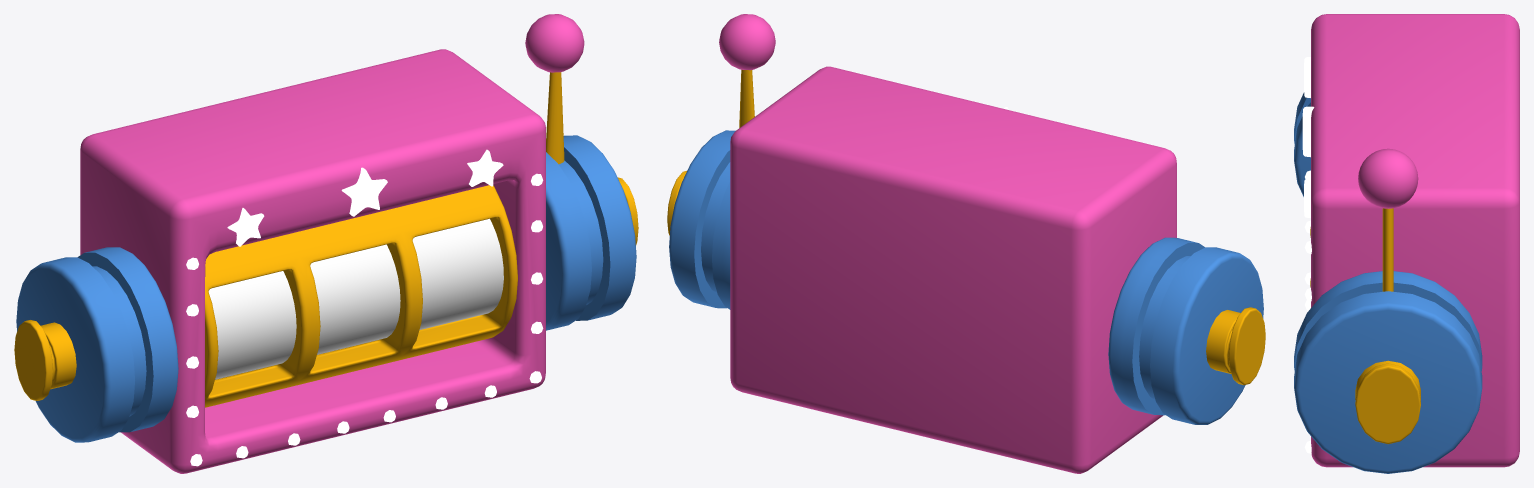
Rendered from stylized_jackpot_slot_machine.glb.
The picture shows the model from 3 angles, left to right: view 1: azimuth 30°, elevation 25°; view 2: azimuth 150°, elevation 25°; view 3: azimuth 270°, elevation 25°; orthographic projection. The views are drawn at different scales.
Parts seen in each view (by area): view 1: Jackpot_20, Cylinder.004_16, Cylinder.008_19, Cylinder.005_17, Cylinder.007_18; view 2: Jackpot_20, Cylinder.007_18; view 3: Jackpot_20, Cylinder.007_18.
Part boxes in pixels (x1,y1,x2,y2): Jackpot_20: [14, 49, 638, 473]; Cylinder.004_16: [412, 218, 503, 329]; Cylinder.008_19: [310, 244, 400, 354]; Cylinder.005_17: [208, 271, 296, 379]; Cylinder.007_18: [525, 14, 584, 164]; Jackpot_20: [667, 66, 1265, 473]; Cylinder.007_18: [719, 14, 775, 127]; Jackpot_20: [1294, 14, 1519, 473]; Cylinder.007_18: [1358, 148, 1418, 291].
Bounding box in the file's own units: 2.2 × 1.19 × 0.7157.
